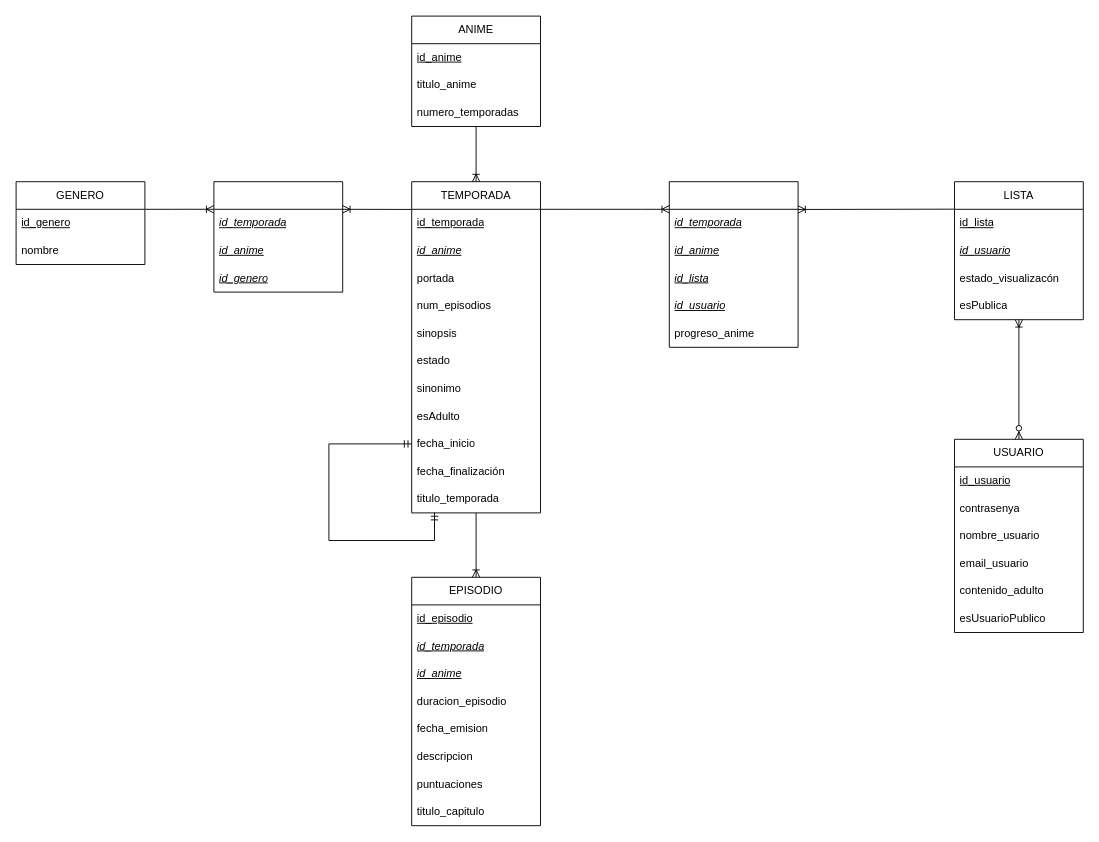
This 1099x842 diagram has some shape labels left out. The box of each missing label's shape, as (x1, y1, x2, y2) in pixels:
LISTA_TEMPORADA: (668, 181, 798, 347)
TEMPORADA_GENERO: (213, 181, 343, 292)
